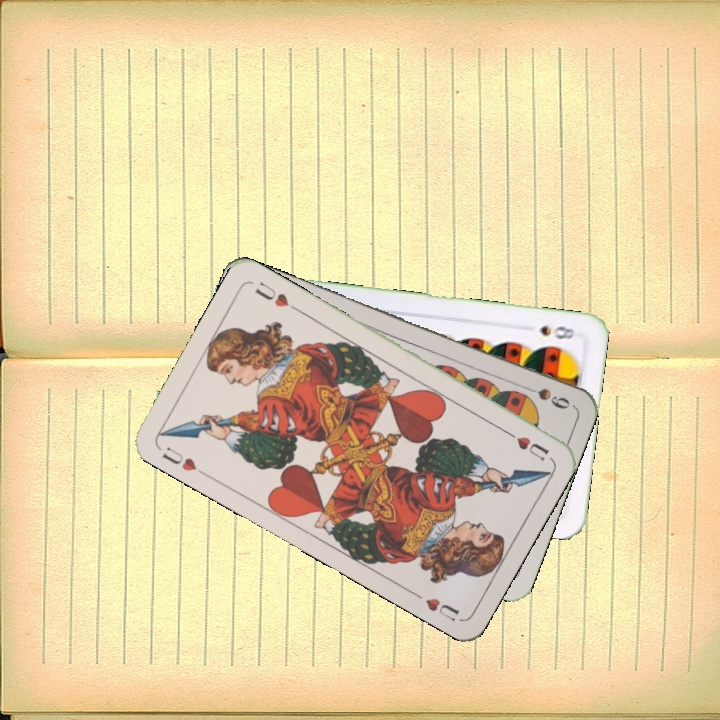HU: (499, 425, 552, 463), (158, 442, 200, 474)
S8: (535, 321, 583, 342)
S9: (517, 381, 573, 412)
